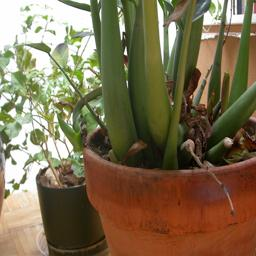pottedplant: (1, 62, 216, 256), (128, 60, 256, 256)
